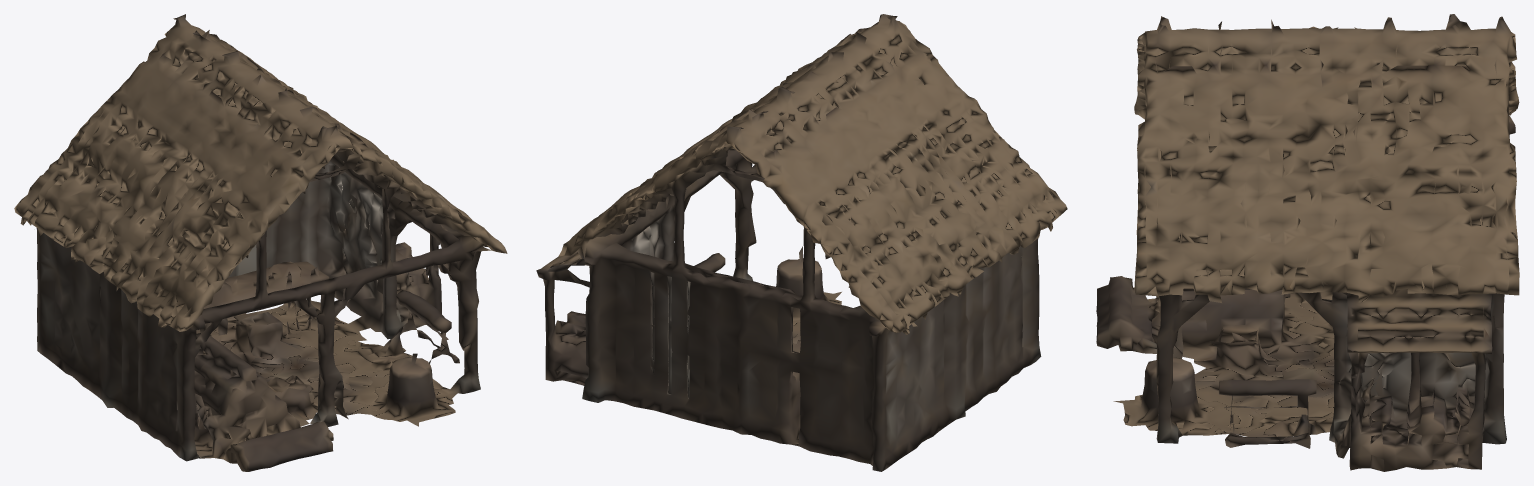
File: foerster.glb
The picture shows the model from 3 angles, left to right: view 1: azimuth 30°, elevation 25°; view 2: azimuth 150°, elevation 25°; view 3: azimuth 270°, elevation 25°; orthographic projection. The views are drawn at different scales.
Bounding box in the file's own units: 1.88 × 1.49 × 1.65.
